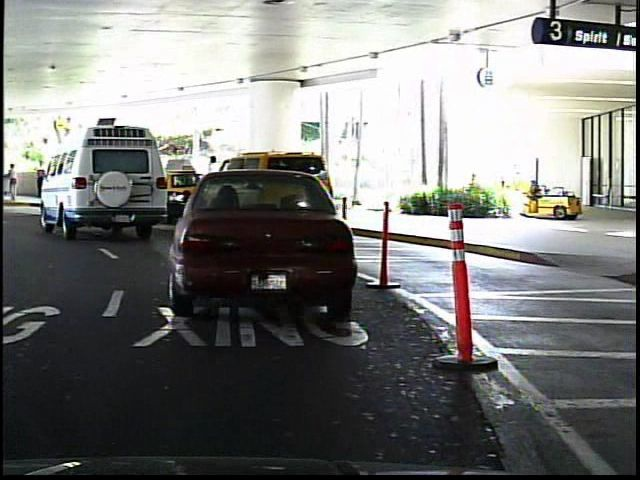person: (203, 152, 226, 211), (6, 161, 23, 202), (36, 156, 47, 199)
